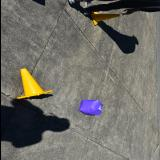cone: (15, 68, 52, 100), (90, 12, 120, 26)
cube: (77, 100, 103, 116)
